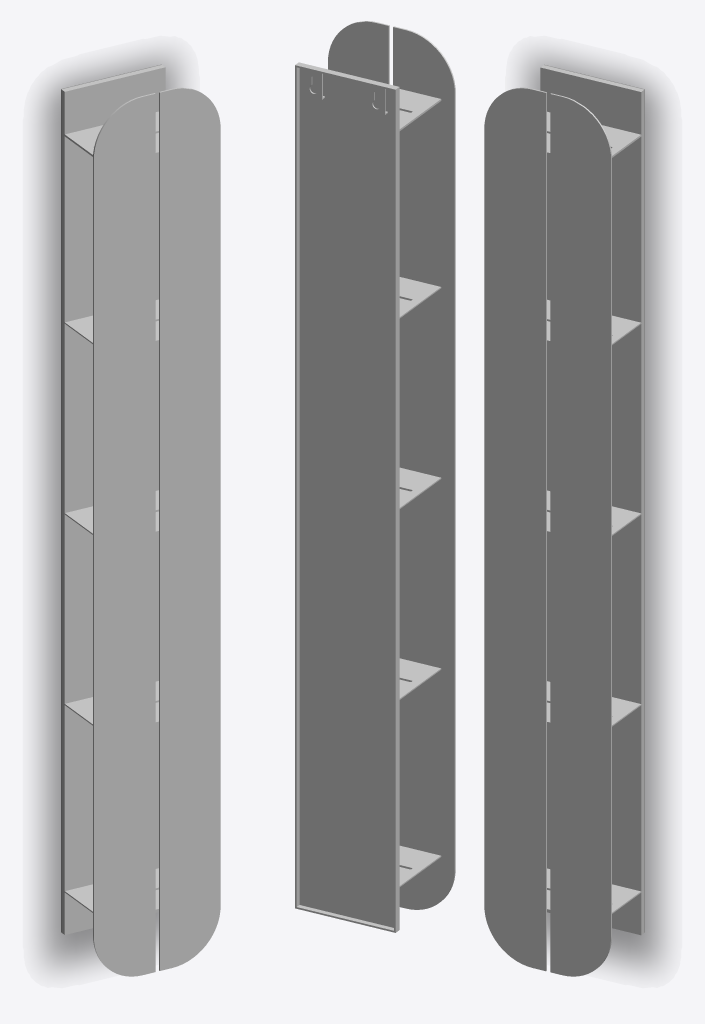
File: round-prima.5ad74aebde.ar.glb
3 views of the same model, side by side, from view 1: azimuth 30°, elevation 25°; view 2: azimuth 150°, elevation 25°; view 3: azimuth 330°, elevation 25° (orthographic).
Parts seen in each view (by area): view 1: NAUO1, object 2; view 2: NAUO1; view 3: NAUO1, object 2.
Part boxes in pixels (x1,y1,x2,y2): NAUO1: [61, 64, 220, 976]; object 2: [39, 54, 182, 969]; NAUO1: [295, 21, 455, 932]; NAUO1: [484, 64, 644, 976]; object 2: [522, 54, 665, 969].
Bounding box in the file's own units: 0.2312 × 1.08 × 0.096.
2 materials, 1 textured.
